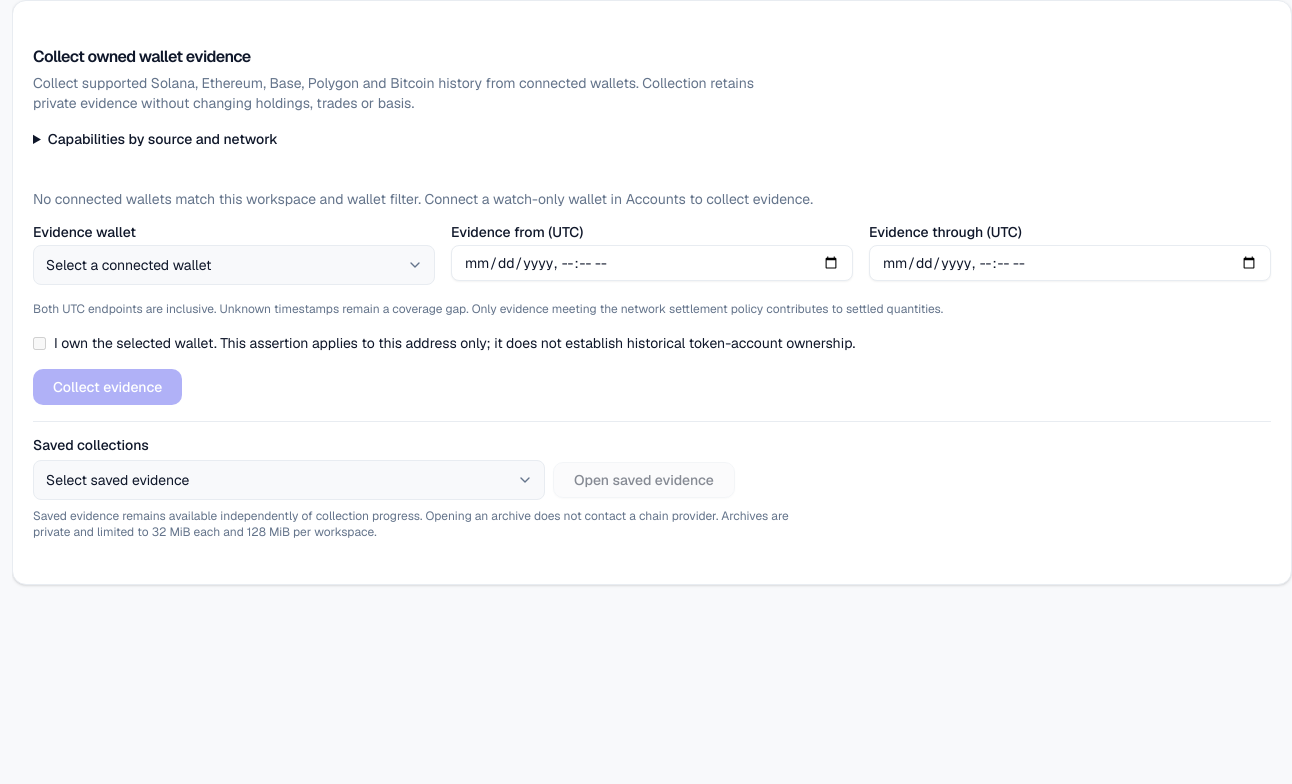
Test: opens archived evidence after the watched connection is removed, while new collection stays disabled
Select "2025-01-01 00:00:00.000 UTC · 1 Transactions" in the dropdown labelled "Saved collections" at (289, 480), box [33, 460, 545, 500]
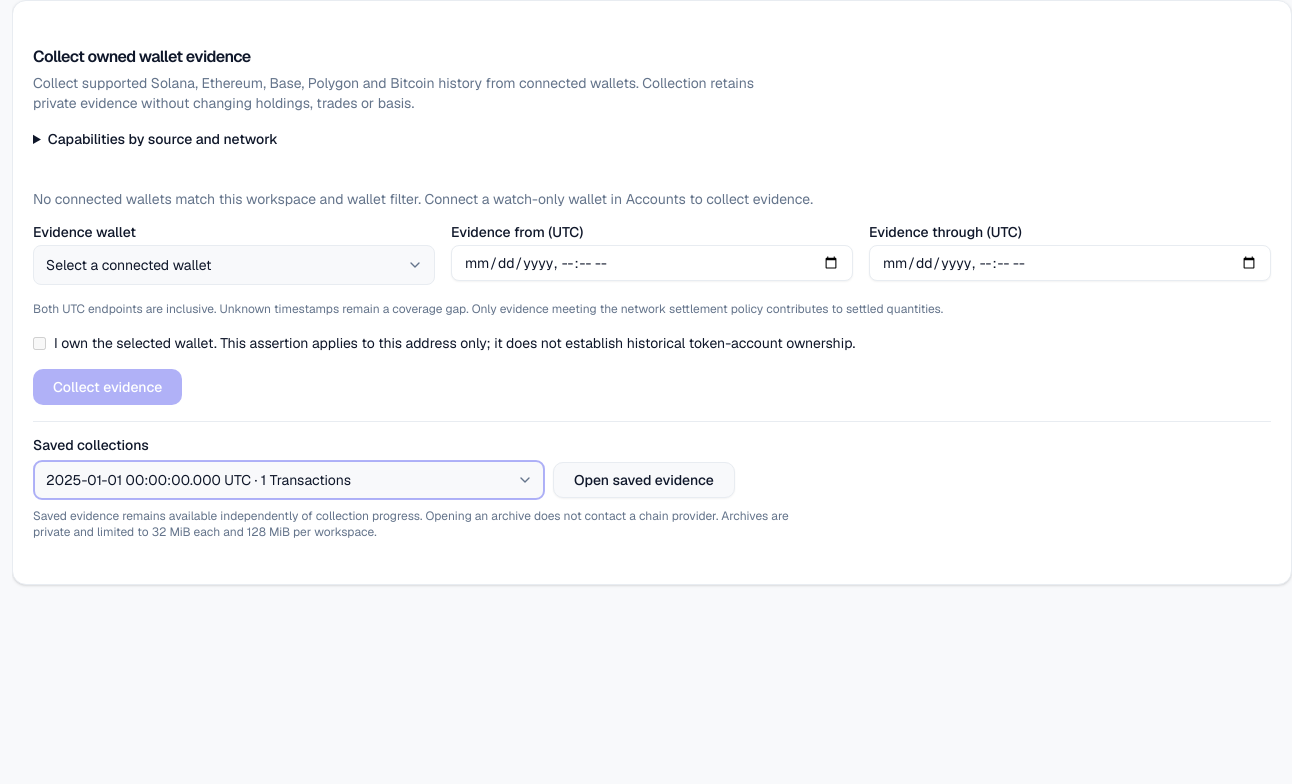
Click the button "Open saved evidence" at (644, 480), box [553, 462, 735, 498]
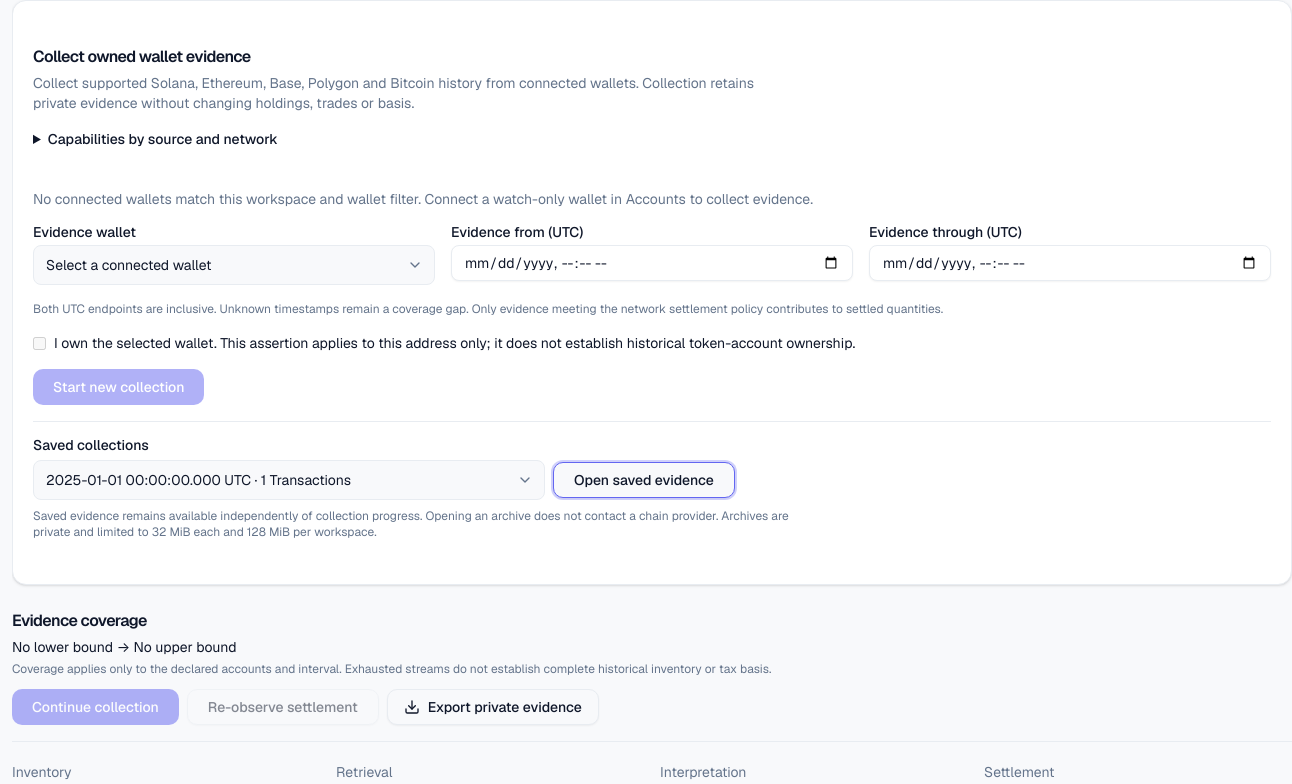
Expected: the button "Export private evidence" is enabled, [387, 689, 599, 725]
Expected: the button "Continue collection" is disabled, [12, 689, 179, 725]
Expected: the button "Re-observe settlement" is disabled, [187, 689, 379, 725]
